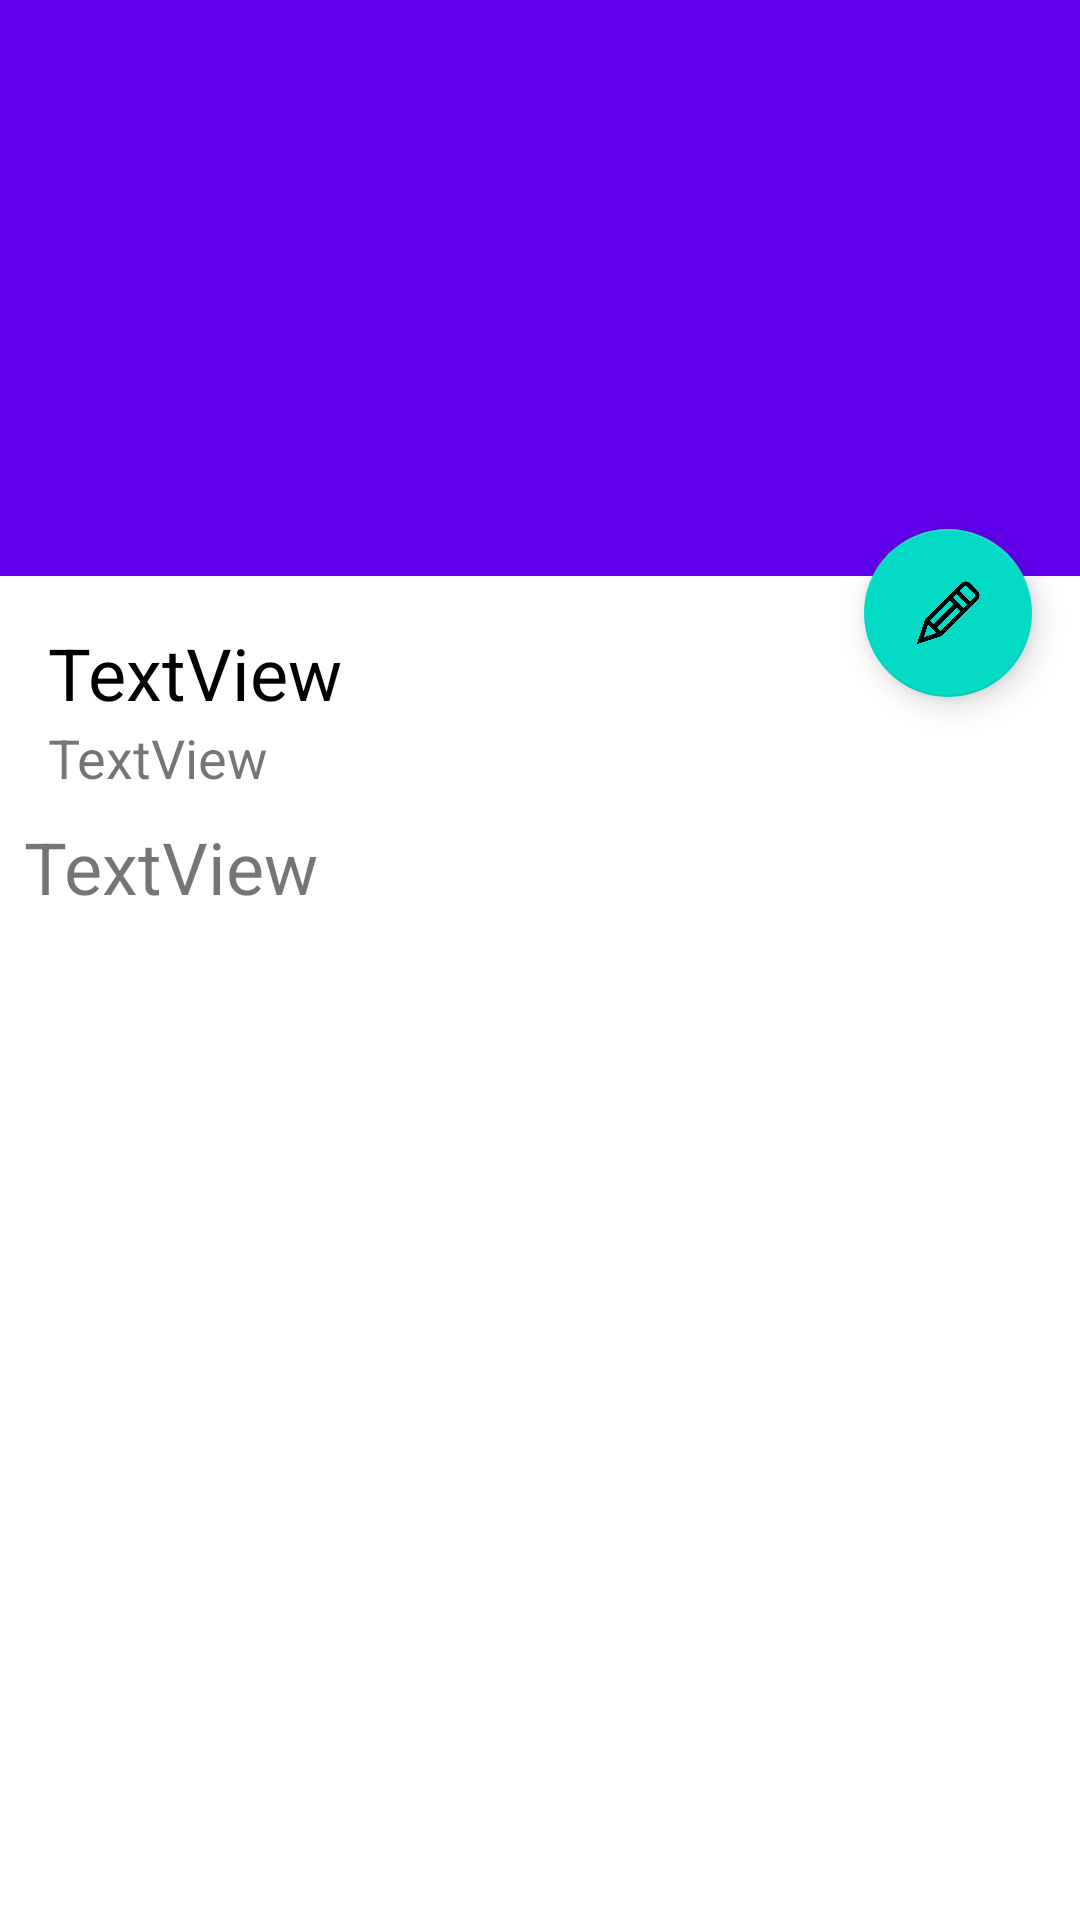

Named icons in this screenshot (1080px×1920px) and their centers, [x,y]:
pencil: [948,613]
